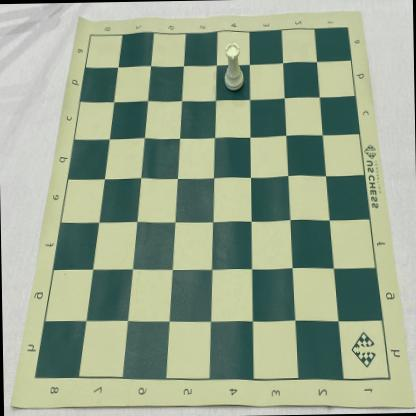white-rook: (223, 41, 244, 91)
